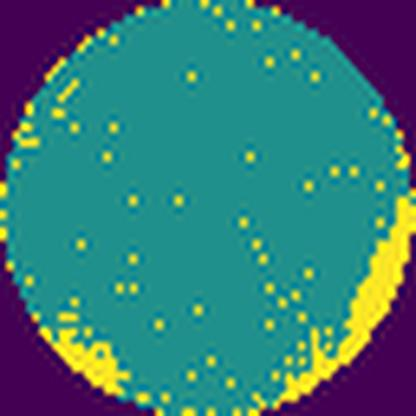Edge-Loc: (262, 188, 415, 416), (31, 308, 136, 400)
